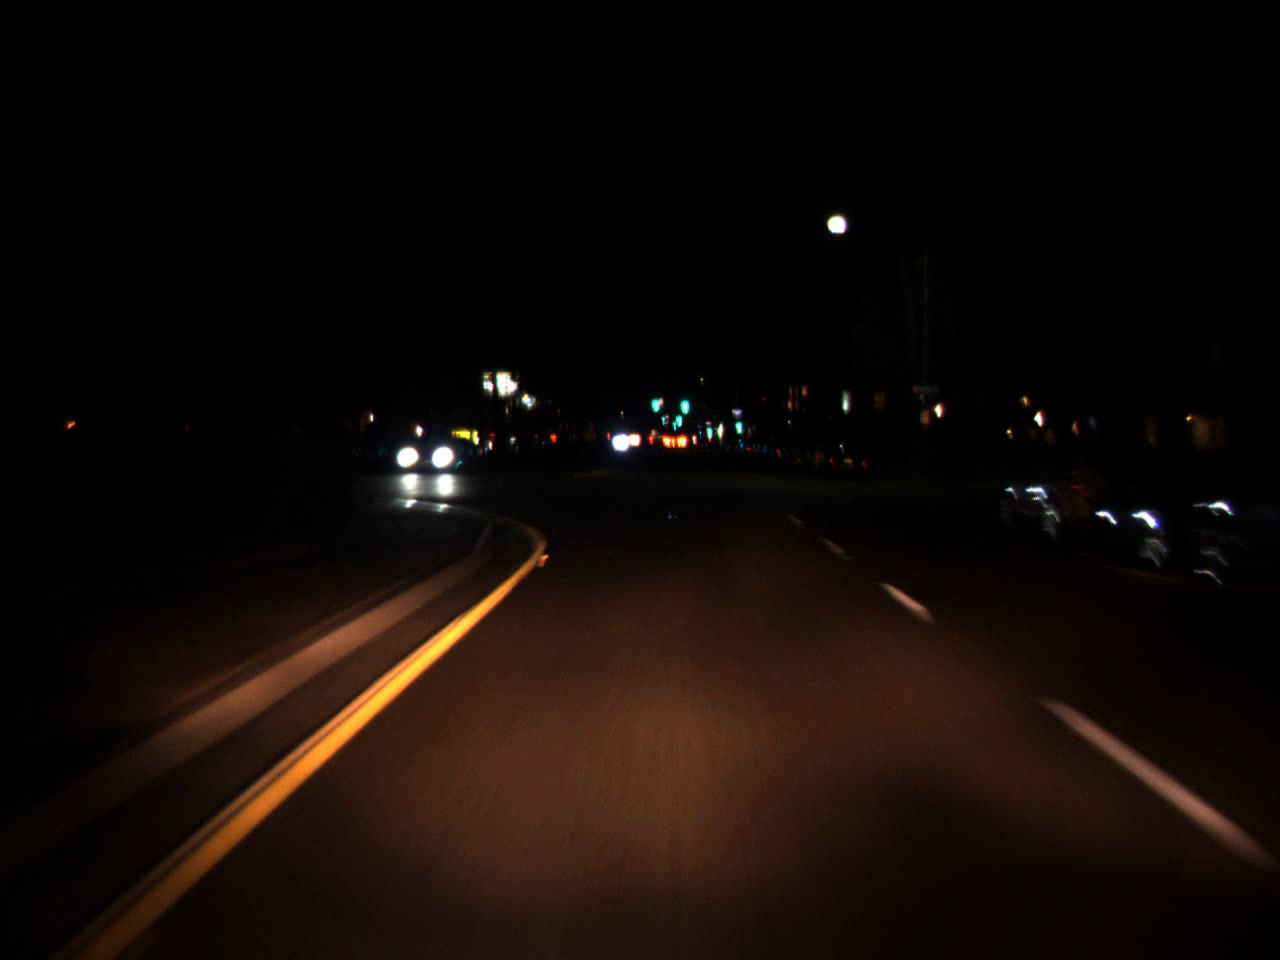go: (648, 383, 662, 416), (678, 381, 690, 419), (673, 399, 683, 432), (733, 411, 742, 435), (669, 411, 678, 432), (706, 416, 713, 440), (659, 407, 666, 425)
